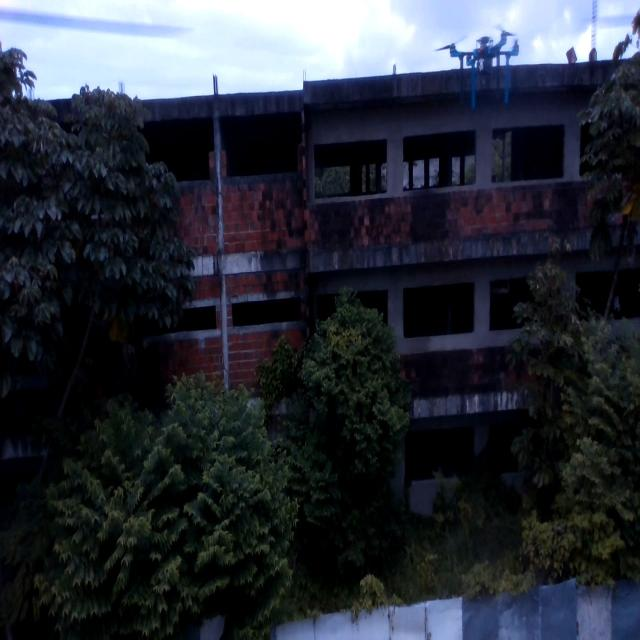-uav-: (431, 15, 528, 123)
